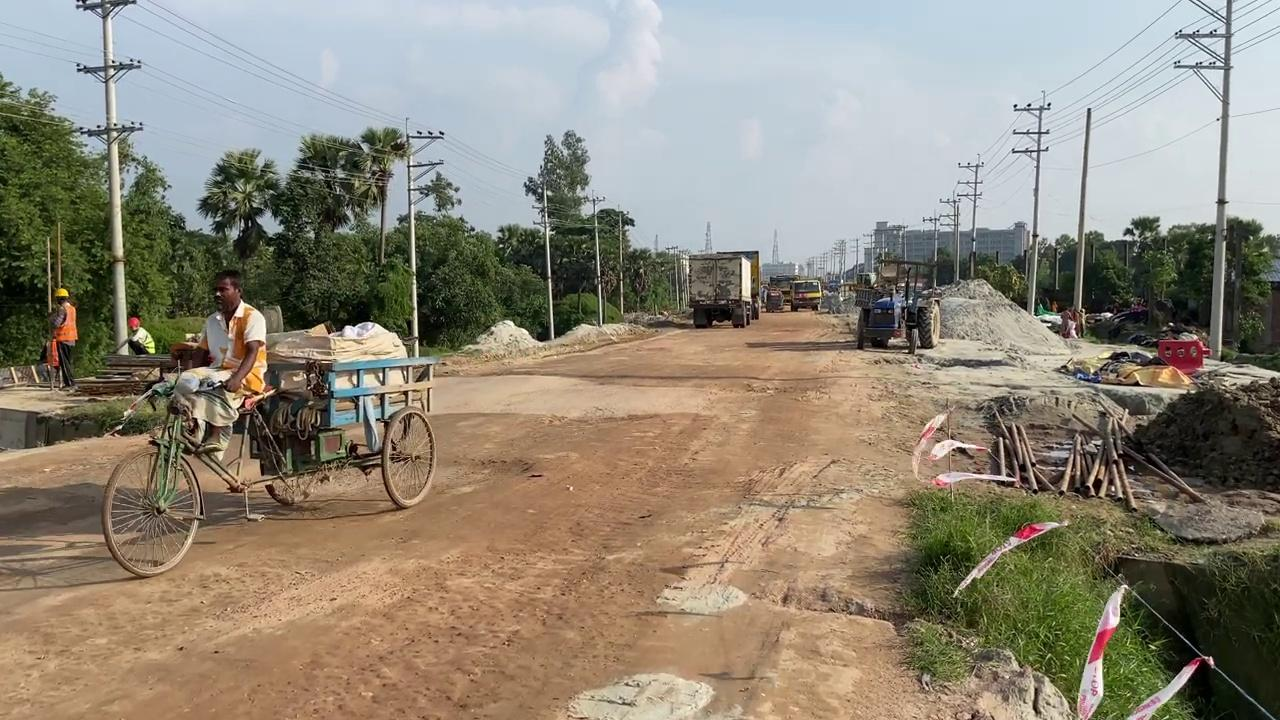Pole: (1208, 1, 1233, 359), (1071, 106, 1091, 333), (542, 184, 555, 340)
Pothole: (1109, 541, 1279, 718)
Railroad-crossing: (99, 332, 442, 577)
Traffic-light: (1156, 337, 1204, 372)
Traffic-sign: (522, 128, 591, 339)
Tree: (853, 257, 942, 353), (685, 251, 759, 328), (719, 249, 761, 317), (767, 274, 797, 309), (761, 284, 783, 312)
